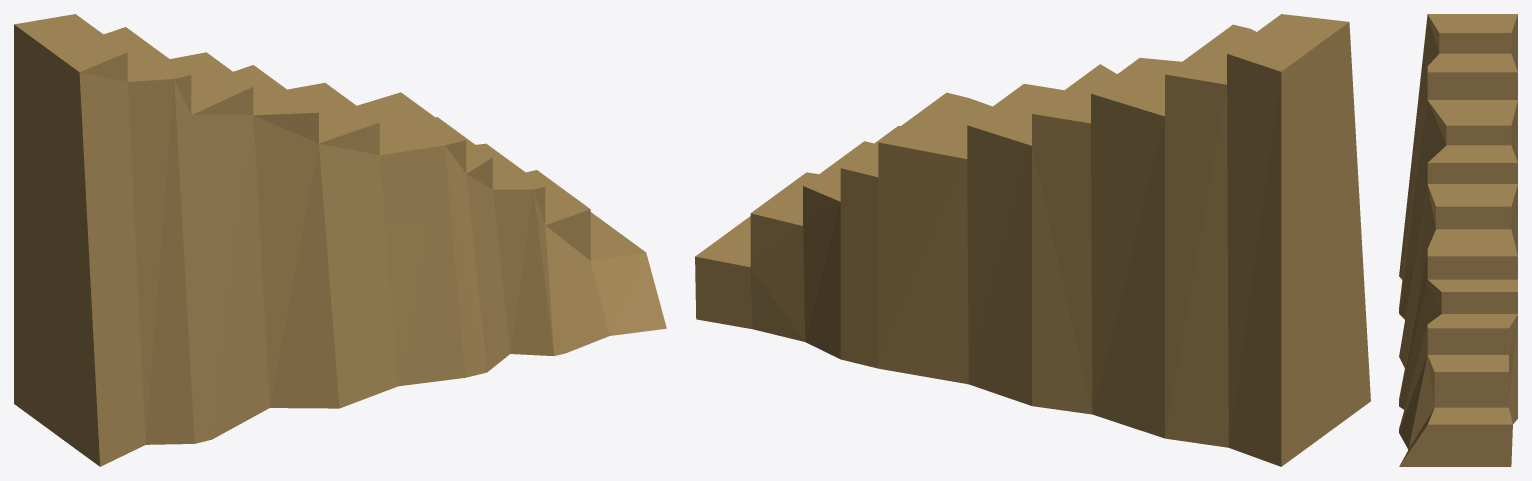
Rendered from Terrain_Modular_Tiles_Dirt_Stairs_02.fbx.
The picture shows the model from 3 angles, left to right: view 1: azimuth 30°, elevation 25°; view 2: azimuth 150°, elevation 25°; view 3: azimuth 270°, elevation 25°; orthographic projection. The views are drawn at different scales.
Parts seen in each view (by area): view 1: Terrain_Modular_Tiles_Dirt_Stairs_02; view 2: Terrain_Modular_Tiles_Dirt_Stairs_02; view 3: Terrain_Modular_Tiles_Dirt_Stairs_02.
Boxes of the visible parts, x1,y1,x2,y2 form: Terrain_Modular_Tiles_Dirt_Stairs_02: (14,14,666,466); Terrain_Modular_Tiles_Dirt_Stairs_02: (695,14,1370,466); Terrain_Modular_Tiles_Dirt_Stairs_02: (1399,14,1517,466).
Size of the model in its own units: 3750 by 2400 by 987.
